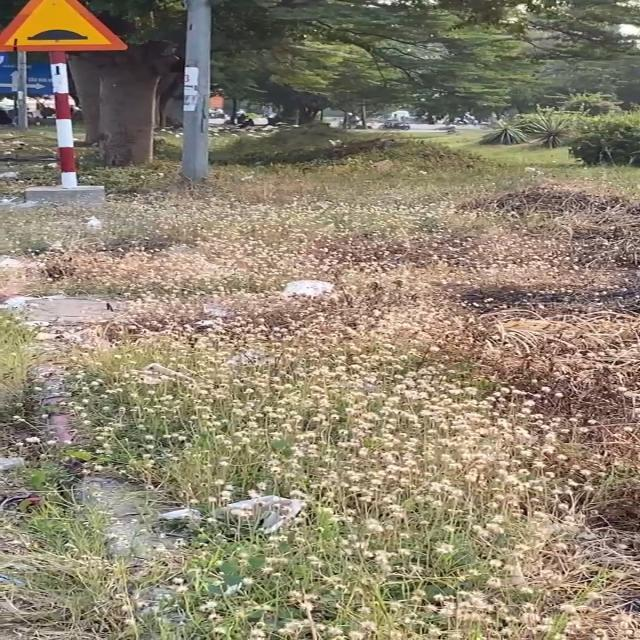221-duong-go-ghe: (0, 0, 128, 51)
